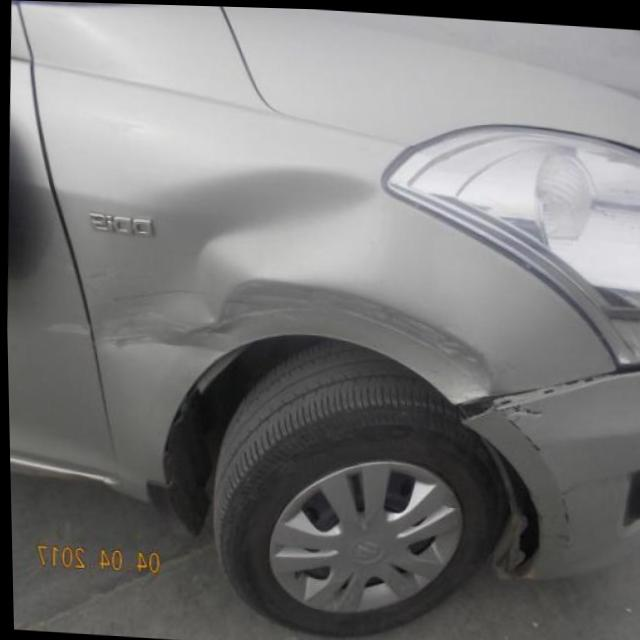Car-Damage: (35, 267, 489, 398), (140, 159, 377, 332), (447, 349, 640, 431), (524, 478, 572, 562), (495, 404, 546, 457)
